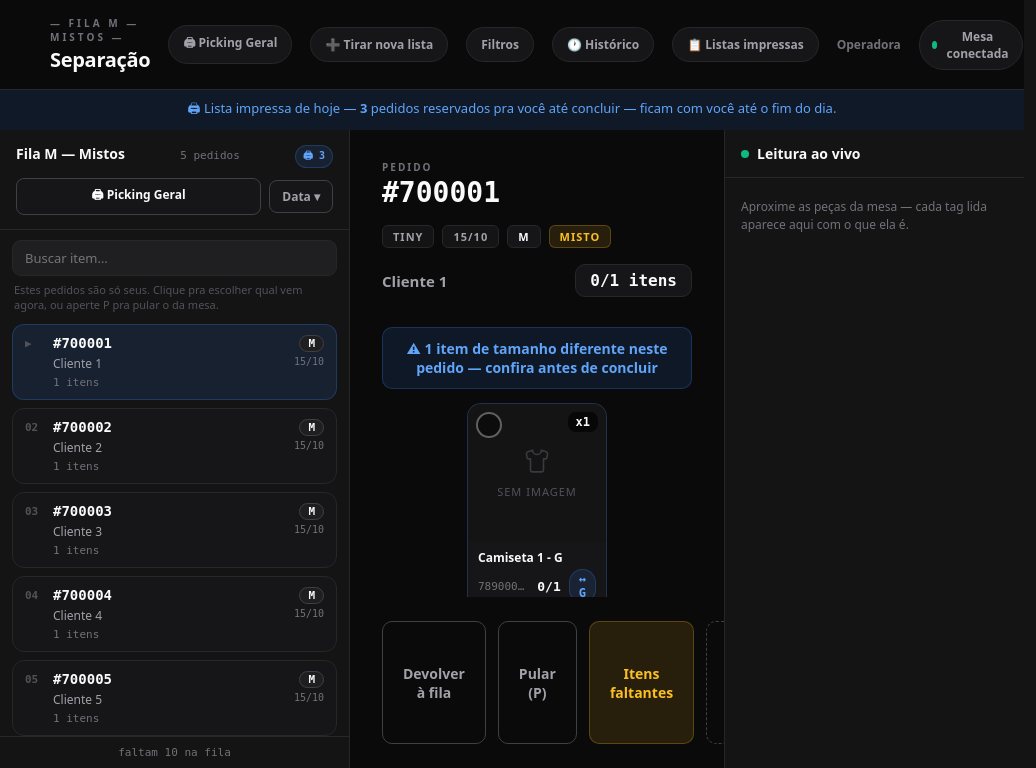
Test: Tirar nova lista (mistos) › fila sem pedidos novos (novos vazio) avisa e não abre impressão
Click the button "➕ Tirar nova lista" at (379, 44), box [310,27,448,62]
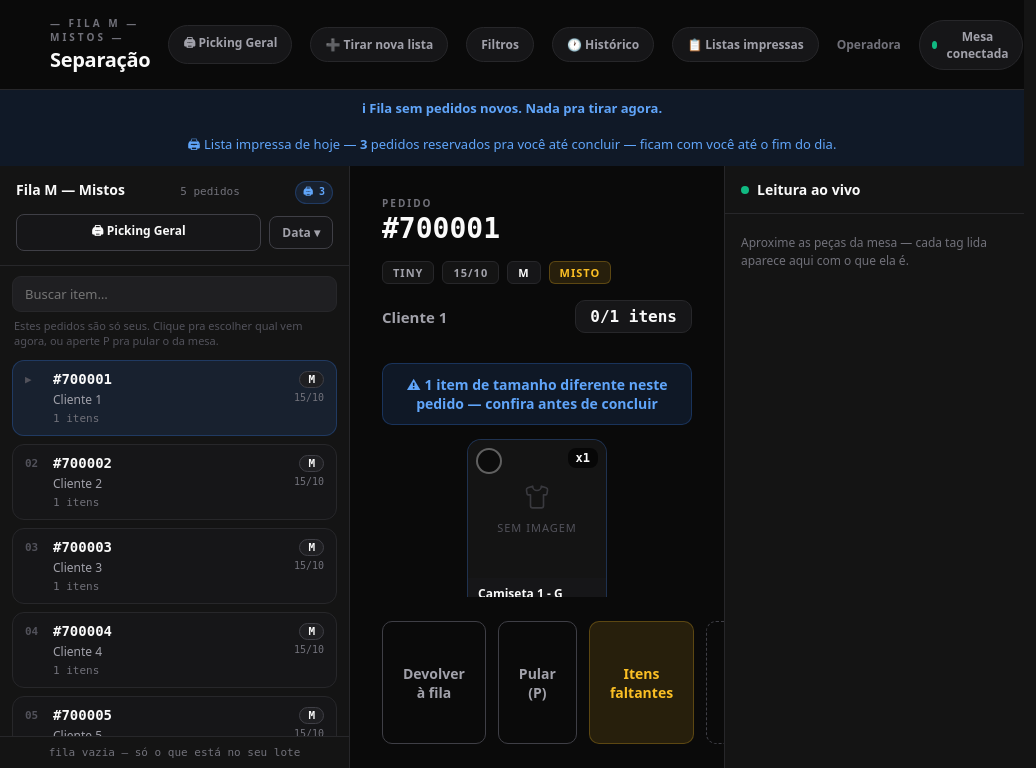
Check: the text "ℹ Fila sem pedidos novos. Nada pra tirar agora." is shown, box [0,90,1024,126]
